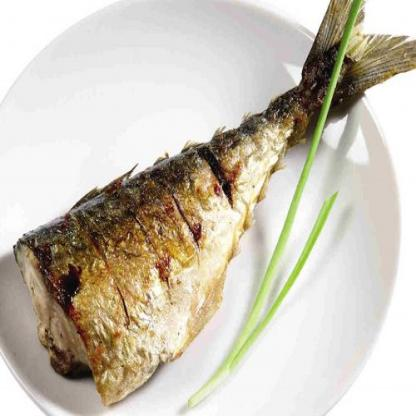Peixe: (6, 0, 403, 416)
